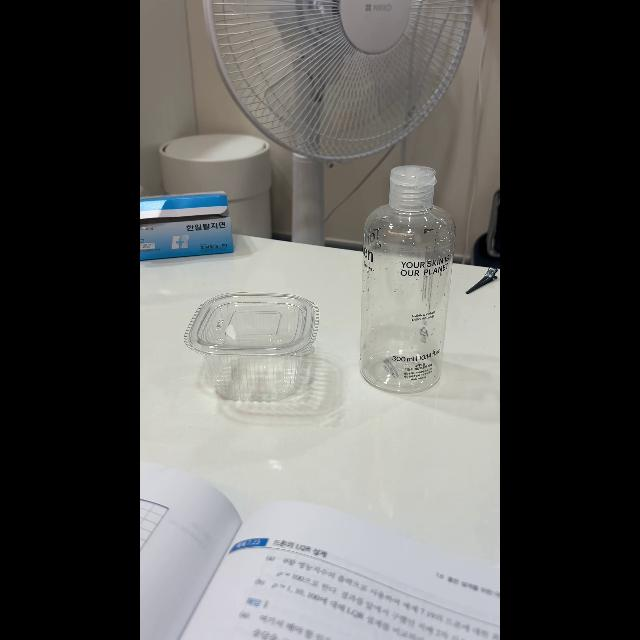clean: (359, 167, 455, 387), (180, 298, 318, 404)
